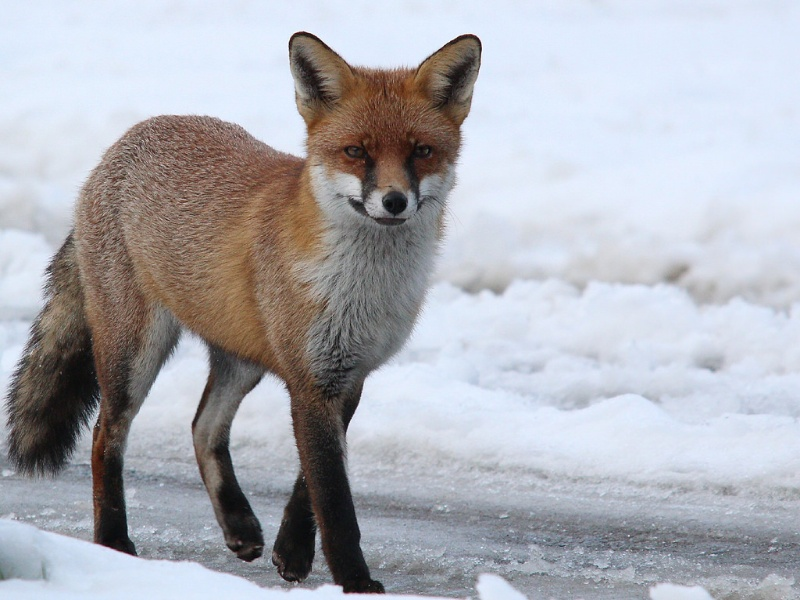fox: (8, 29, 487, 581)
